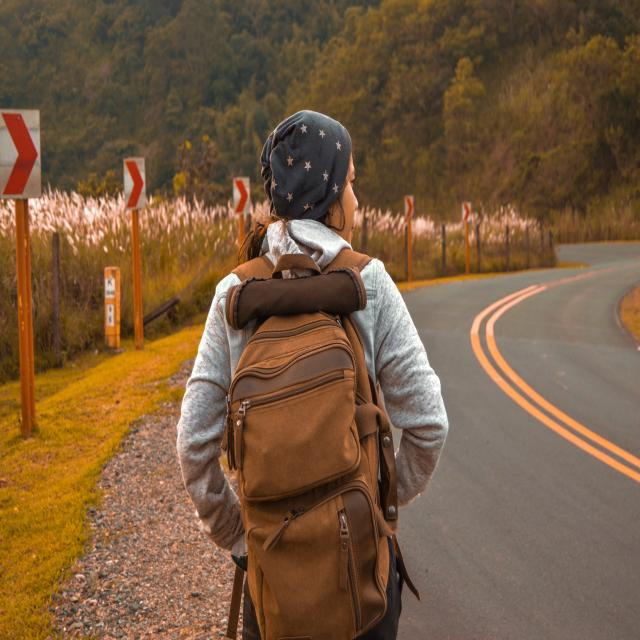backpack: (216, 249, 406, 640)
